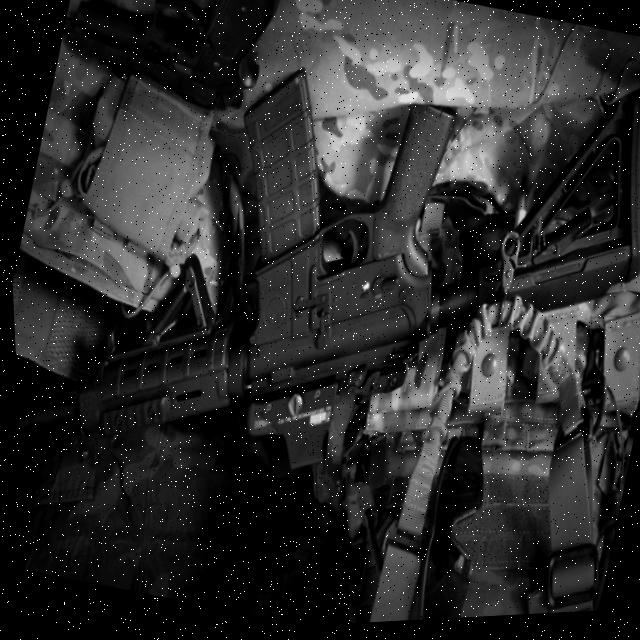firearm: (0, 0, 640, 614)
pistol: (58, 0, 294, 130)
